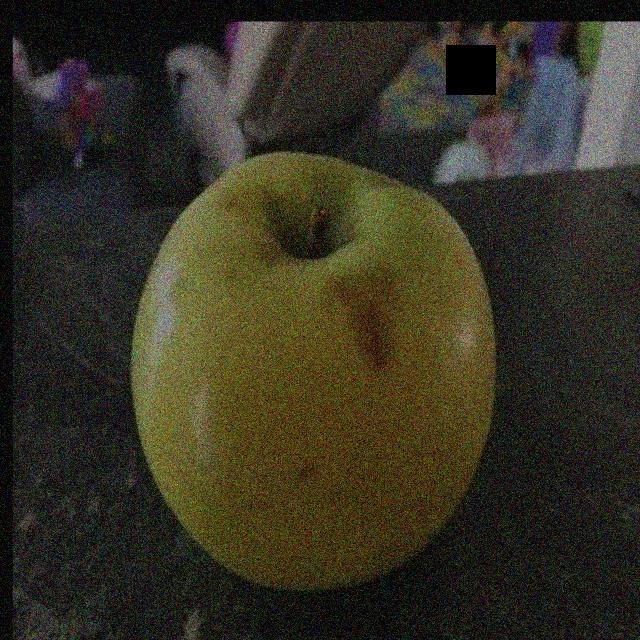green apple: (128, 148, 497, 593)
